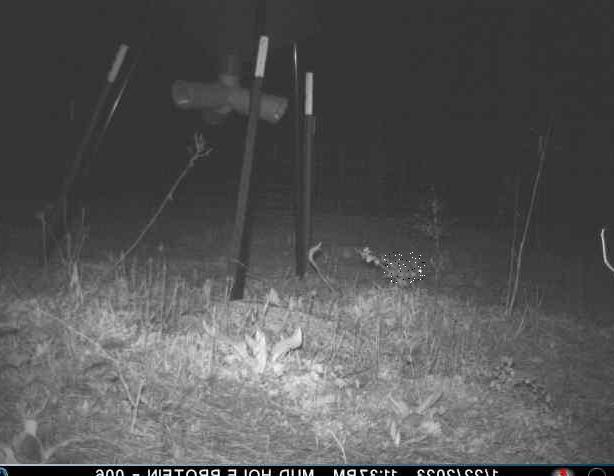Rabbit: (384, 253, 425, 285)
